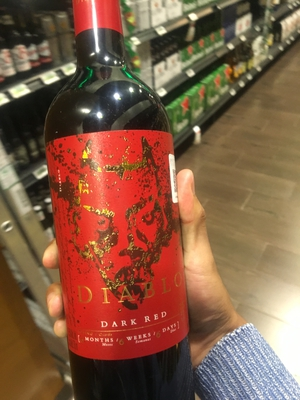diablo dark red: (45, 15, 190, 400)
